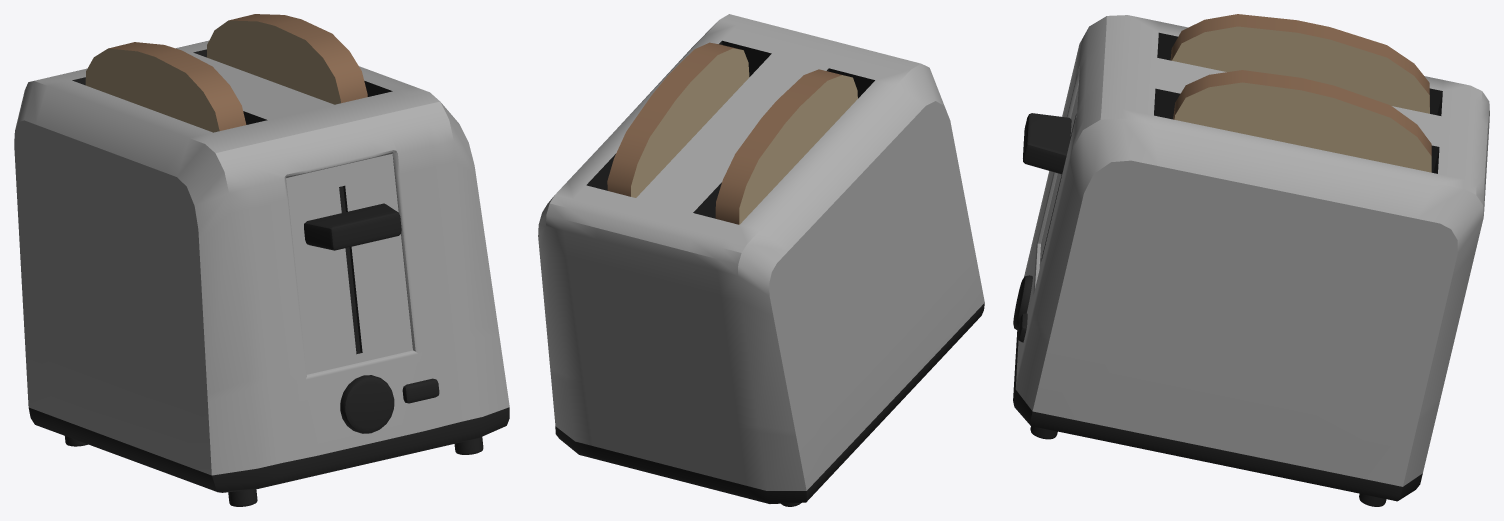
File: Toaster.fbx
The picture shows the model from 3 angles, left to right: view 1: azimuth 30°, elevation 25°; view 2: azimuth 150°, elevation 25°; view 3: azimuth 270°, elevation 25°; orthographic projection. The views are drawn at different scales.
Visible parts, largest first — view 1: toaster, toast2, toast1; view 2: toaster, toast2, toast1; view 3: toaster, toast2, toast1.
Part boxes in pixels (x1,y1,x2,y2): toaster: (14, 40, 509, 506); toast2: (207, 14, 367, 104); toast1: (85, 42, 246, 132); toaster: (538, 14, 984, 506); toast2: (607, 42, 749, 197); toast1: (715, 69, 857, 224); toaster: (1013, 15, 1489, 506); toast2: (1173, 70, 1431, 172); toast1: (1170, 14, 1429, 113).
Bounding box in the file's own units: 0.338 × 0.4503 × 0.4839.
